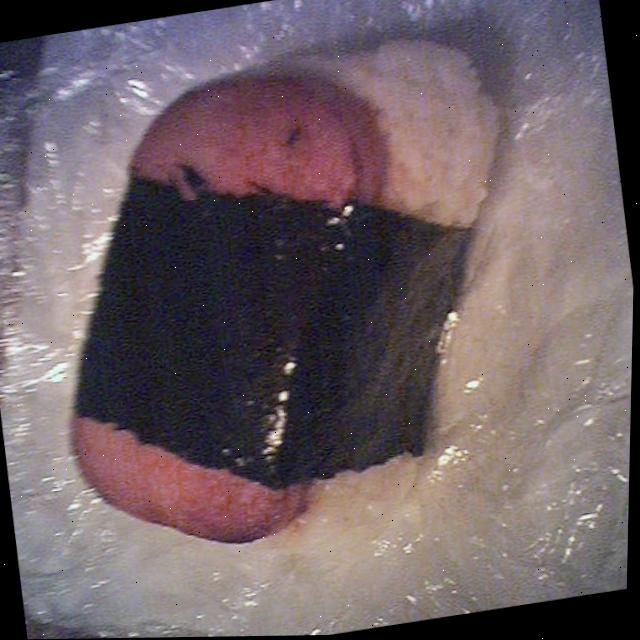寿司卷物: (6, 0, 631, 610)
